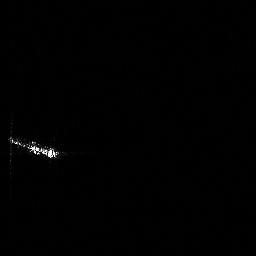ship: (4, 132, 63, 162)
